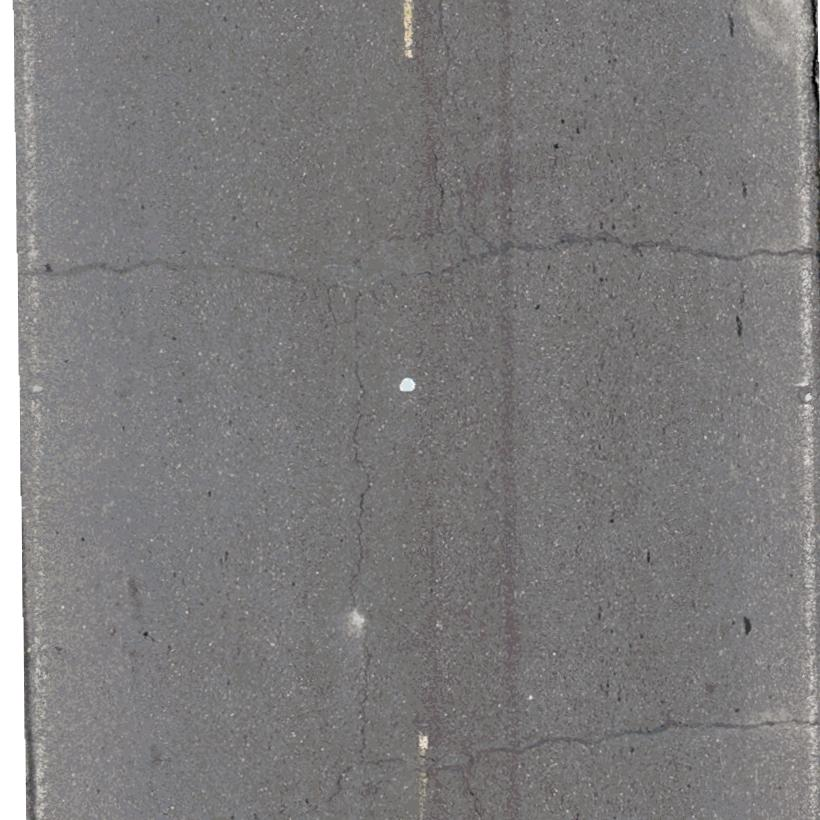GRIETA: (465, 718, 819, 770), (443, 231, 818, 275), (20, 256, 301, 284), (349, 363, 372, 608), (325, 758, 406, 803), (359, 634, 373, 755), (810, 0, 819, 122)
PIEL DE COCODRILO: (317, 0, 496, 335)
